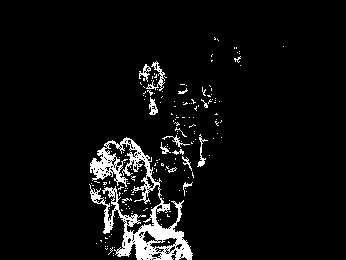person: (133, 201, 192, 260), (119, 137, 154, 229), (89, 142, 120, 237), (157, 136, 191, 204), (169, 83, 197, 144), (199, 85, 223, 144)
